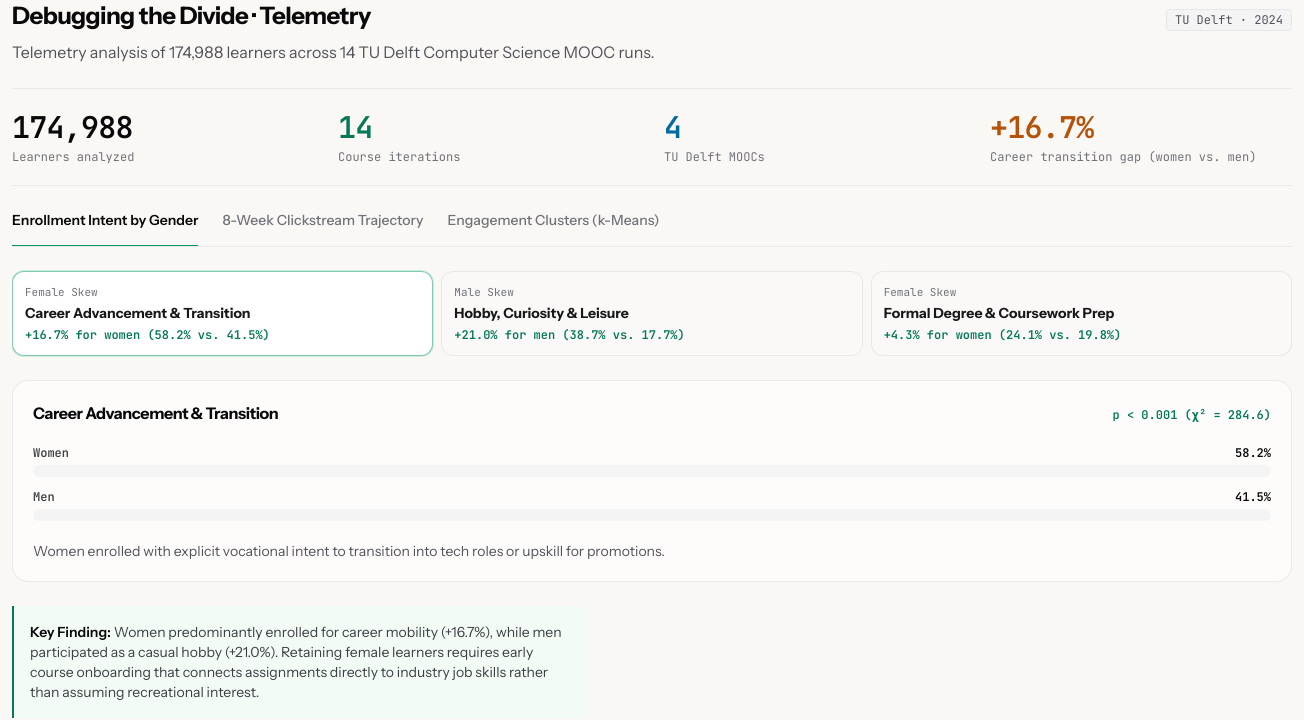
Scenario: handles trajectory tab and week scrubber interaction
The width and height of the screenshot is (1304, 720).
// Switch to Trajectory tab
Click the button "8-Week Clickstream Trajectory". click: (323, 224)
box: x1=222 y1=210 x2=423 y2=238
(page scrolled)
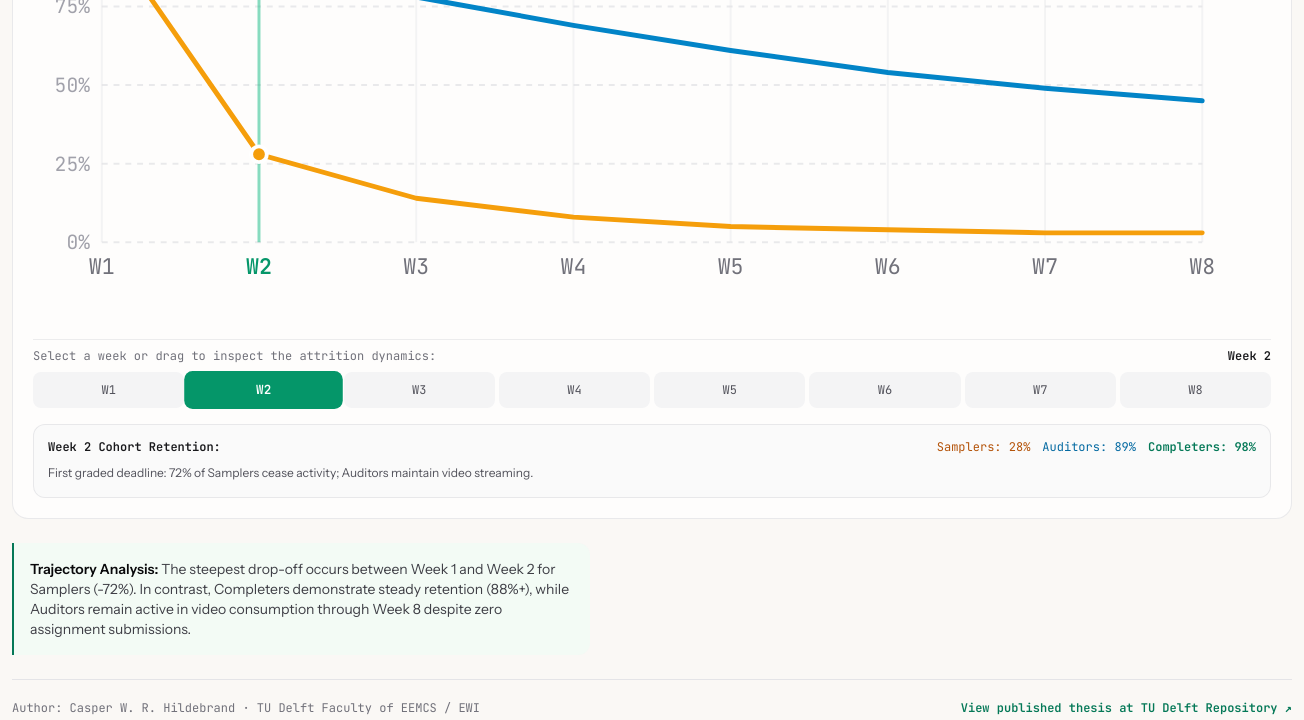
// Click on week 5
Click the button "W5". click: (730, 390)
box: x1=654 y1=372 x2=805 y2=408
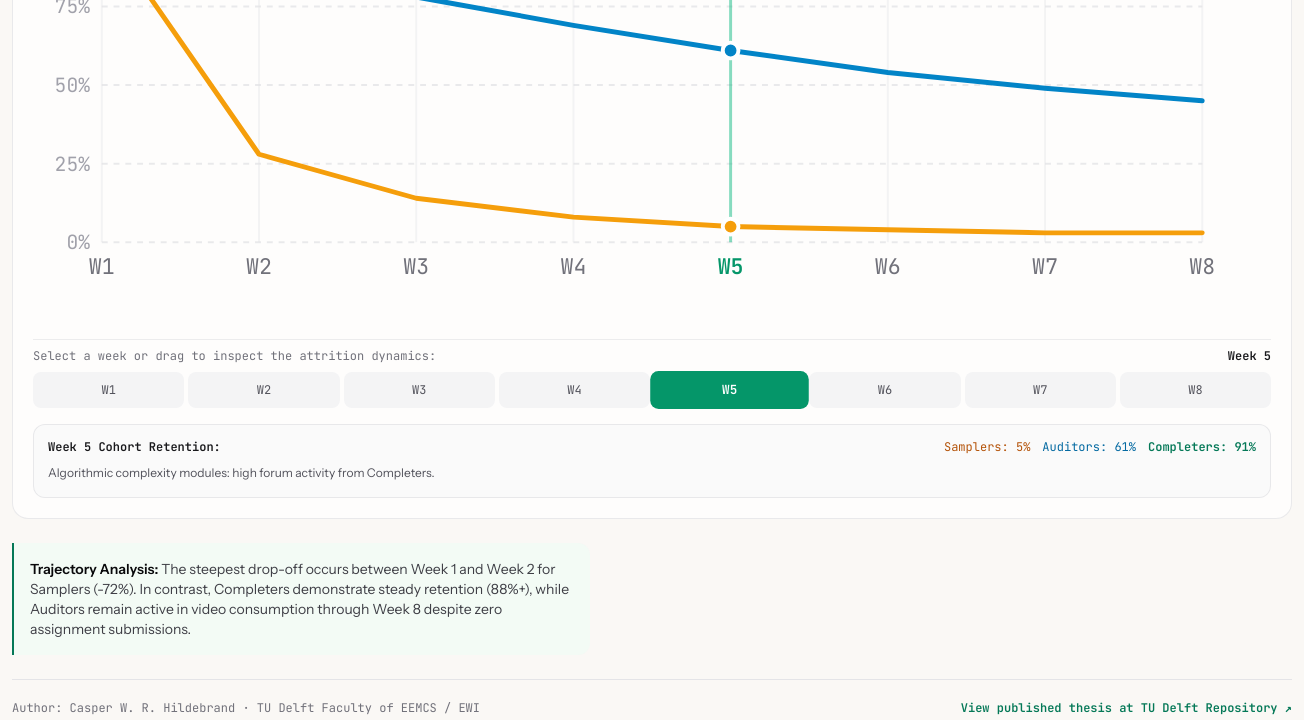
Now the text "Week 5" is shown, box x1=1228 y1=348 x2=1271 y2=364
